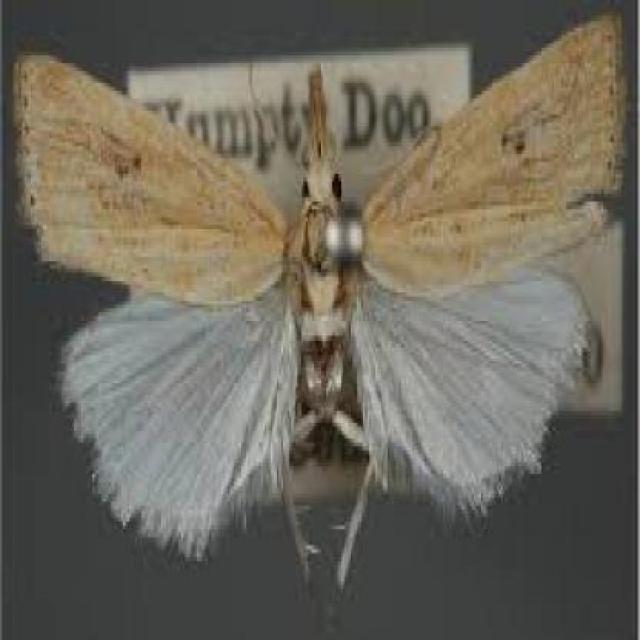stem-borer: (11, 10, 632, 598)
